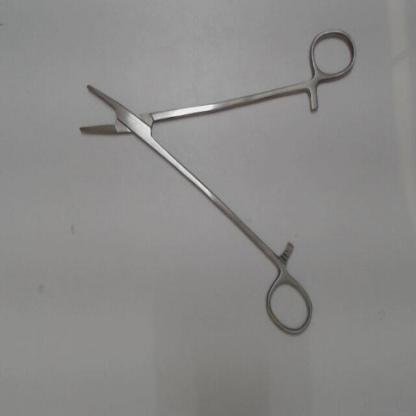8 Mayo Needle Holder: (67, 19, 369, 347)
